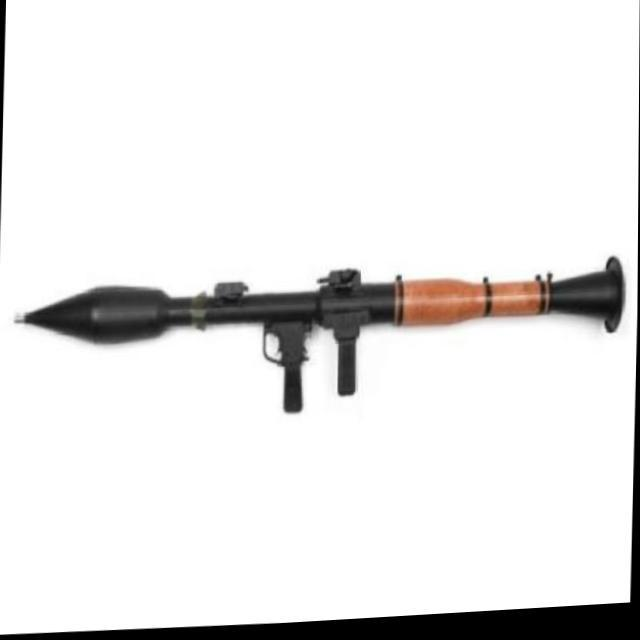weapon: (9, 248, 626, 436)
